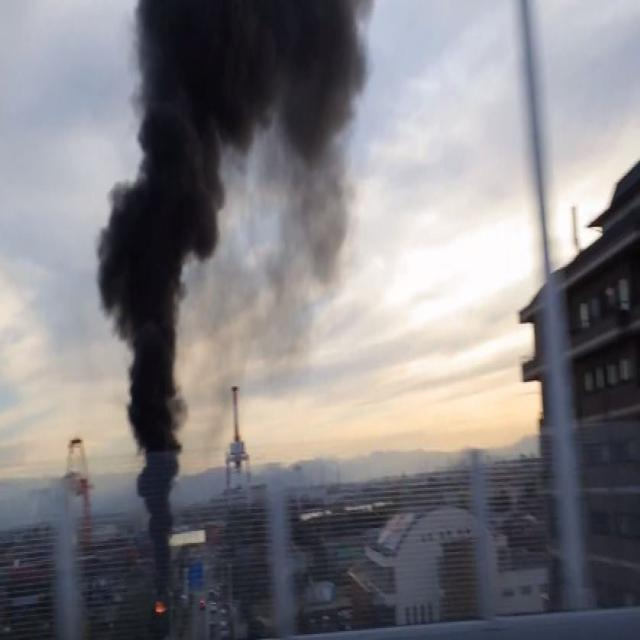Fire: (154, 602, 168, 614)
Smoke: (95, 0, 255, 334), (257, 3, 375, 337), (126, 343, 190, 590)
